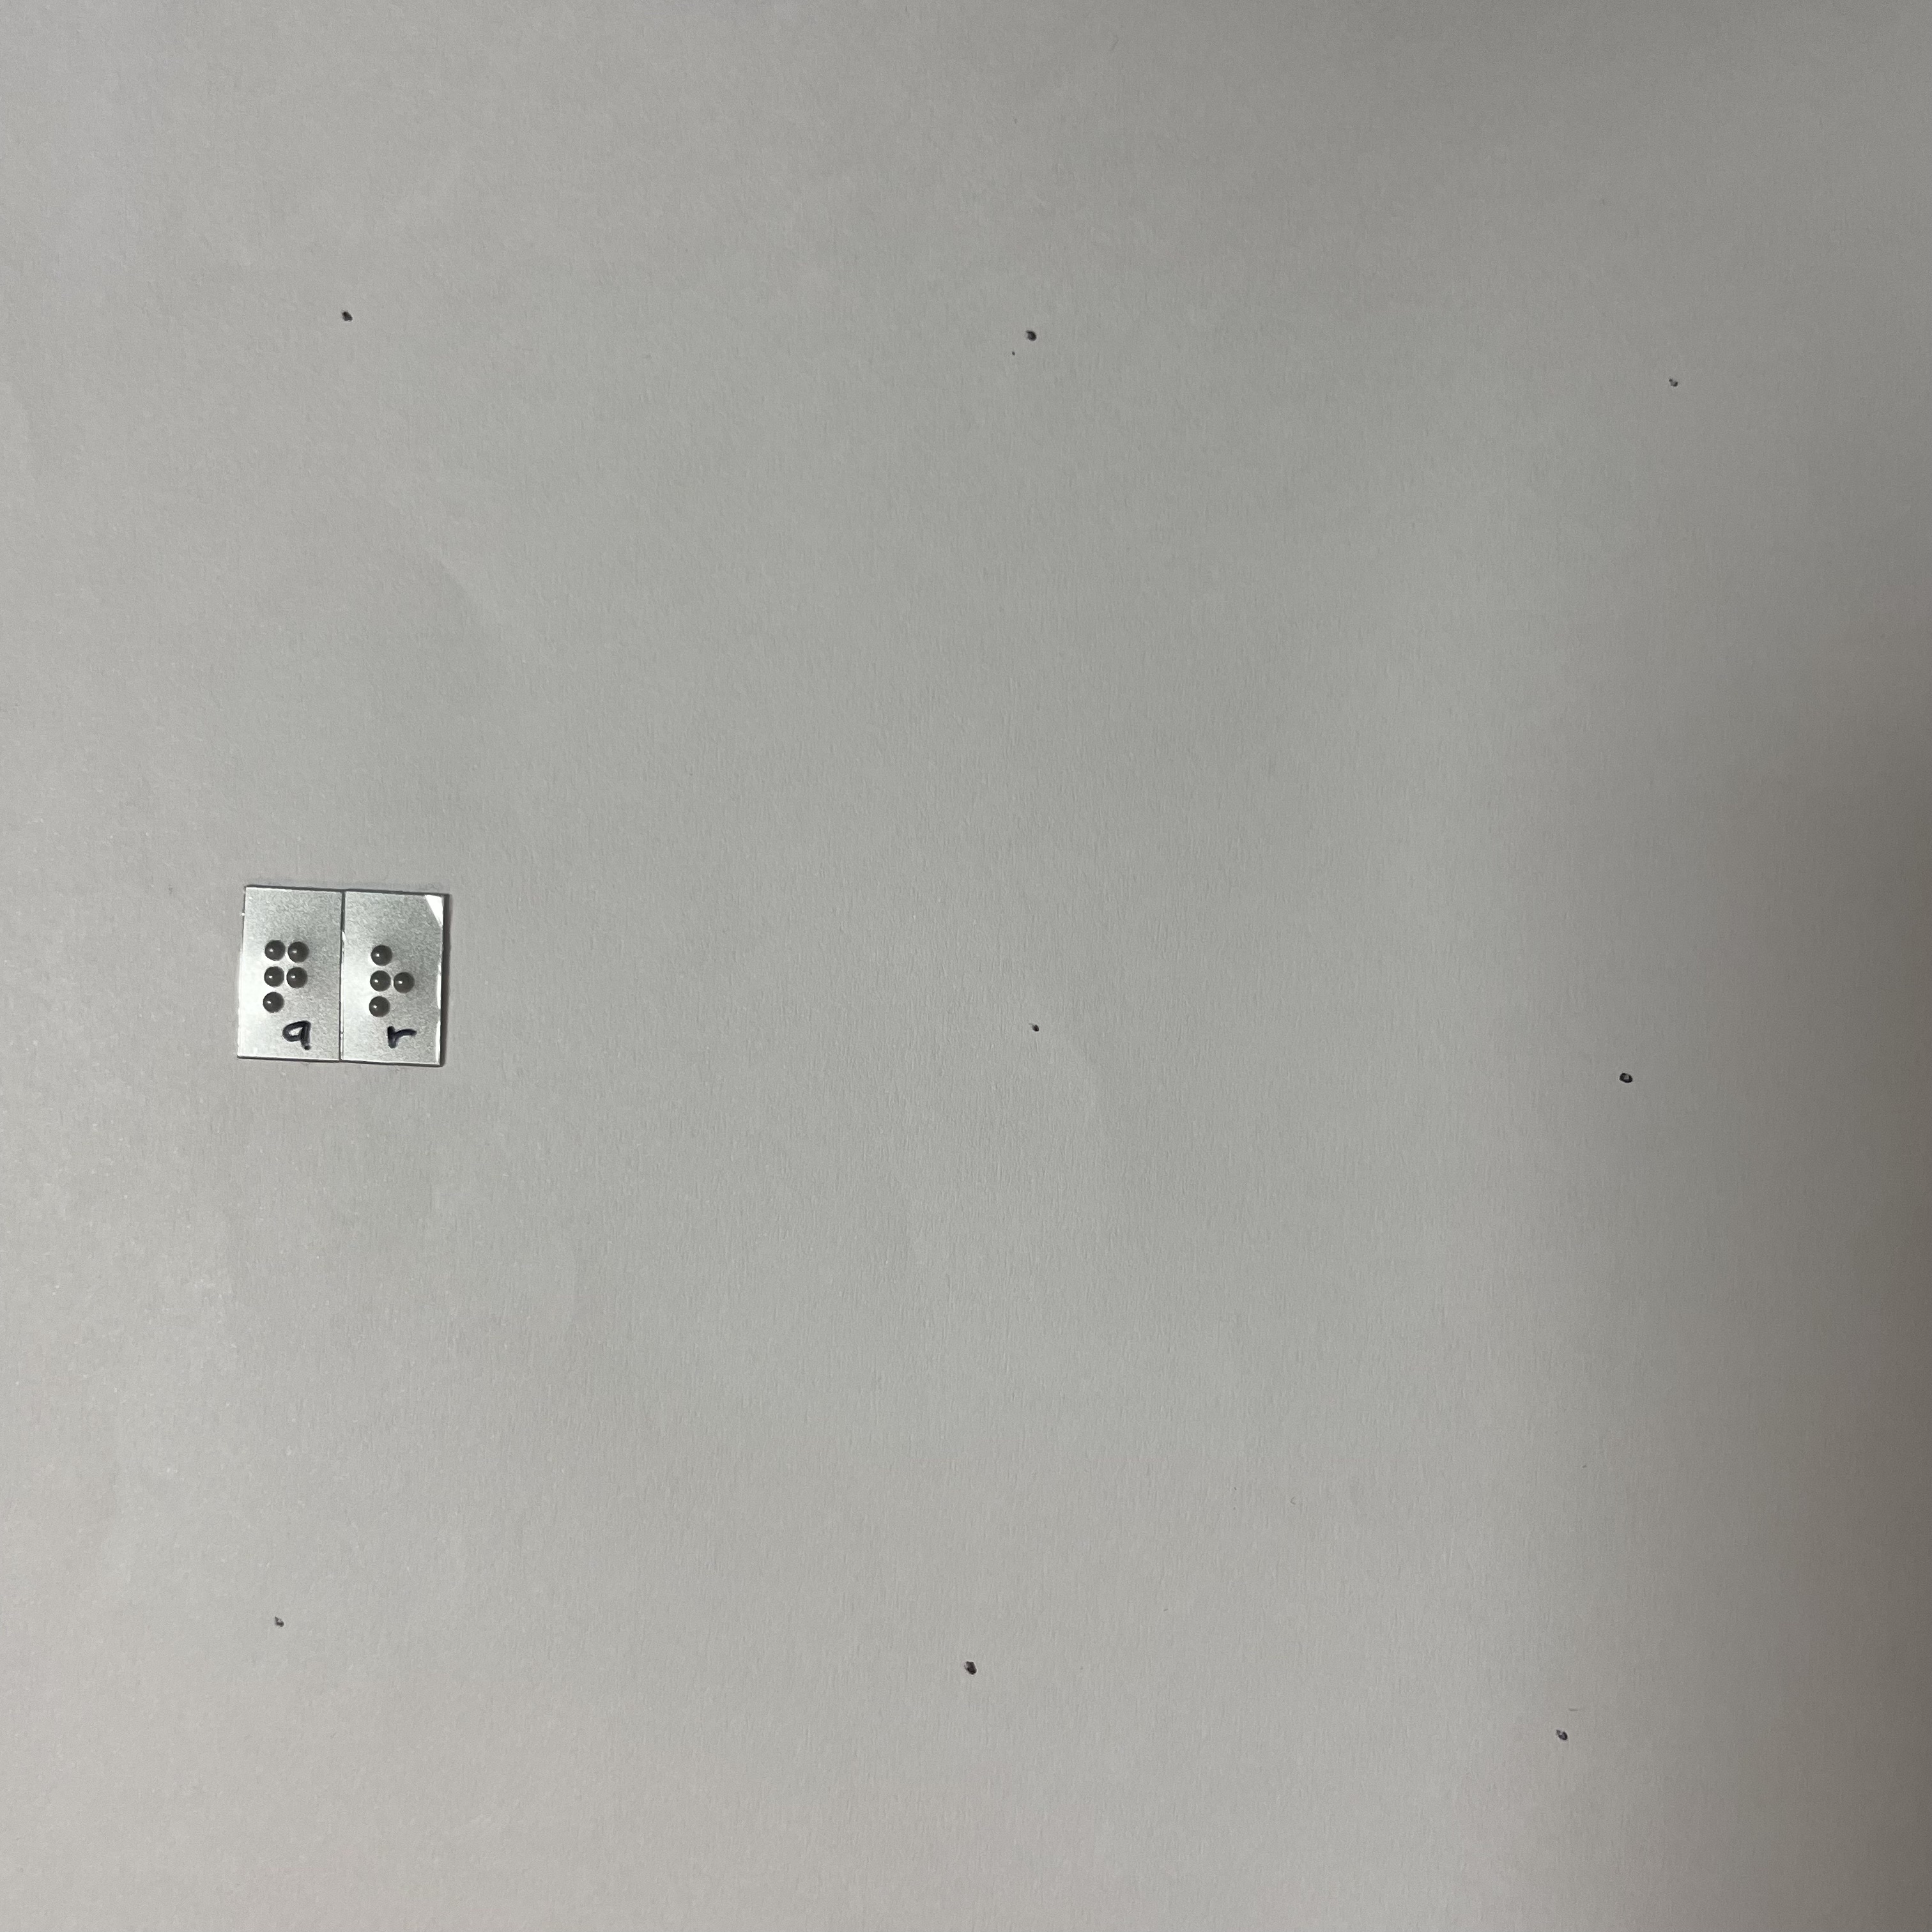q: (261, 930, 318, 1025)
r: (360, 937, 426, 1030)
